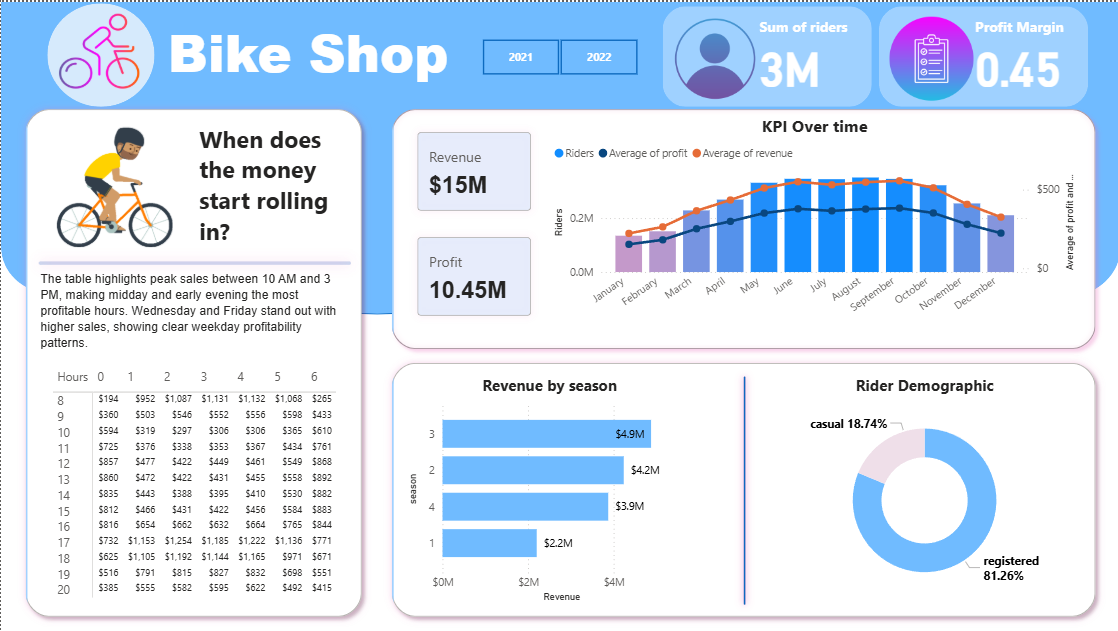

What the dashboard file says about the page in this screenshot:
{"tool":"powerbi","page":{"name":"Page 1","canvas":[1280,720],"ordinal":0},"visuals":[{"type":"shape","box":[1155.7,234.3,124.3,114.3],"z":0},{"type":"shape","box":[232.9,134.3,394.3,222.9],"z":1000},{"type":"shape","box":[0,227.1,112.9,105.7],"z":2000},{"type":"shape","box":[0,0,1280,280],"z":3000},{"type":"cardVisual","fields":{"Data":["Min(Query1.riders)"]},"box":[11.4,105.7,418.6,614.3],"z":4000},{"type":"cardVisual","fields":{"Data":["Min(Query1.riders)"]},"box":[430,105.7,838.6,308.6],"z":5000},{"type":"cardVisual","fields":{"Data":["Min(Query1.riders)"]},"box":[430,395.7,838.6,324.3],"z":6000},{"type":"cardVisual","fields":{"Data":["Min(Query1.riders)"]},"box":[40,125.7,181.4,175.7],"z":7000},{"type":"pivotTable","fields":{"Values":["Avg(Query1.revenue)"],"Columns":["Query1.weekday"],"Rows":["Query1.hr"]},"box":[54.3,414.3,334.3,271.4],"z":8000},{"type":"textbox","box":[221.4,132.9,167.1,158.6],"z":9000},{"type":"textbox","box":[40,301.4,362.9,111.4],"z":10000},{"type":"lineClusteredColumnComboChart","title":"KPI Over time","fields":{"Category":["Query1.dteday.Variation.Date Hierarchy.Year","Query1.dteday.Variation.Date Hierarchy.Month"],"Y":["Sum(Query1.riders)"],"Y2":["Avg(Query1.profit)","Avg(Query1.revenue)"]},"box":[627.1,128.6,605.7,262.9],"z":11000},{"type":"clusteredBarChart","fields":{"Category":["Query1.season"],"Y":["Sum(Query1.revenue)"]},"box":[460,425.7,334.3,265.7],"z":12000},{"type":"donutChart","title":"Rider Demographic","fields":{"Y":["Sum(Query1.revenue)"],"Category":["Query1.rider_type"]},"box":[905.7,425.7,300,265.7],"z":13000},{"type":"shape","box":[700,420,300,277.1],"z":14000},{"type":"cardVisual","title":"KPI Over time","fields":{"Data":["Sum(Query1.revenue)","Sum(Query1.profit)"]},"box":[460,132.9,162.9,242.9],"z":15000},{"type":"cardVisual","fields":{"Data":["Sum(Query1.riders)","Query1.Profit Margin"]},"box":[751.4,0,497.1,125.7],"z":16000},{"type":"shape","box":[30,160,382.9,277.1],"z":17000},{"type":"shape","box":[52.9,1.4,122.9,118.6],"z":18000},{"type":"image","box":[61.4,8.6,101.4,95.7],"z":19000},{"type":"slicer","fields":{"Values":["Query1.Years"]},"box":[524.3,35.7,227.1,54.3],"z":20000},{"type":"textbox","box":[185.7,10,355.7,101.4],"z":21000}]}

Visuals, with their boxes in screenshot pixels (x1, y1, x2, y2), scaled from the page's 1280x720 canvas onto the 1118x631 screenshot:
shape: <bbox>1009, 205, 1117, 306</bbox>
shape: <bbox>203, 118, 548, 313</bbox>
shape: <bbox>0, 199, 99, 292</bbox>
shape: <bbox>0, 0, 1117, 245</bbox>
cardVisual - Min(Query1.riders): <bbox>10, 93, 376, 630</bbox>
cardVisual - Min(Query1.riders): <bbox>376, 93, 1108, 363</bbox>
cardVisual - Min(Query1.riders): <bbox>376, 347, 1108, 630</bbox>
cardVisual - Min(Query1.riders): <bbox>35, 110, 193, 264</bbox>
pivotTable - Avg(Query1.revenue) x Query1.weekday: <bbox>47, 363, 339, 601</bbox>
textbox: <bbox>193, 116, 339, 255</bbox>
textbox: <bbox>35, 264, 352, 362</bbox>
"KPI Over time" lineClusteredColumnComboChart: <bbox>548, 113, 1077, 343</bbox>
clusteredBarChart - Query1.season x Sum(Query1.revenue): <bbox>402, 373, 694, 606</bbox>
"Rider Demographic" donutChart: <bbox>791, 373, 1053, 606</bbox>
shape: <bbox>611, 368, 873, 611</bbox>
"KPI Over time" cardVisual: <bbox>402, 116, 544, 329</bbox>
cardVisual - Sum(Query1.riders) x Query1.Profit Margin: <bbox>656, 0, 1090, 110</bbox>
shape: <bbox>26, 140, 361, 383</bbox>
shape: <bbox>46, 1, 154, 105</bbox>
image: <bbox>54, 8, 142, 91</bbox>
slicer - Query1.Years: <bbox>458, 31, 656, 79</bbox>
textbox: <bbox>162, 9, 473, 98</bbox>
